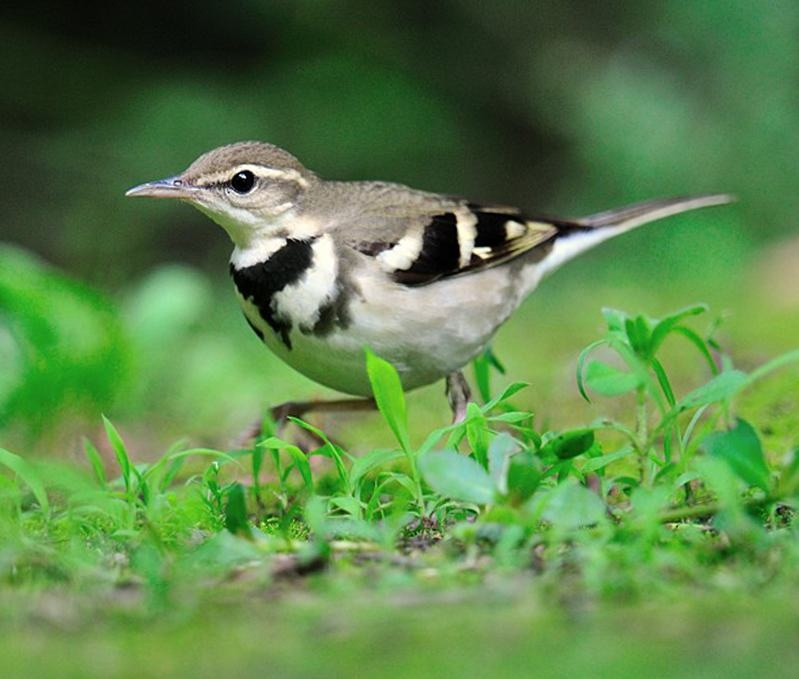wagtail: (125, 131, 654, 427)
